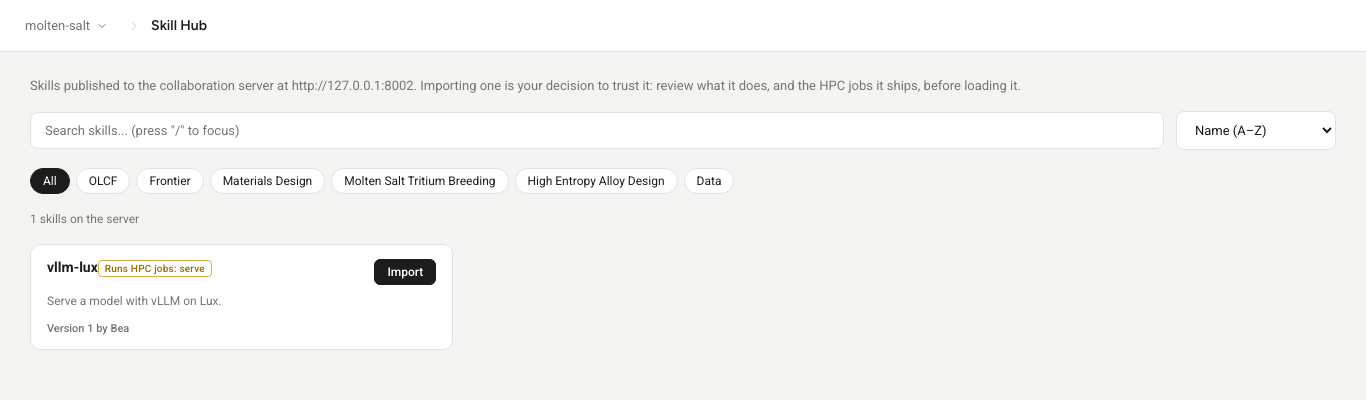
it: the Skill Hub › imports a skill into the active project
Check: the text "Serve a model with vLLM on Lux." is shown, box [47,294,222,308]
Check: the text "Runs HPC jobs: serve" is shown, box [98,260,212,277]
Step 1. Click the button "Import" → (405, 272), box [374,259,436,285]
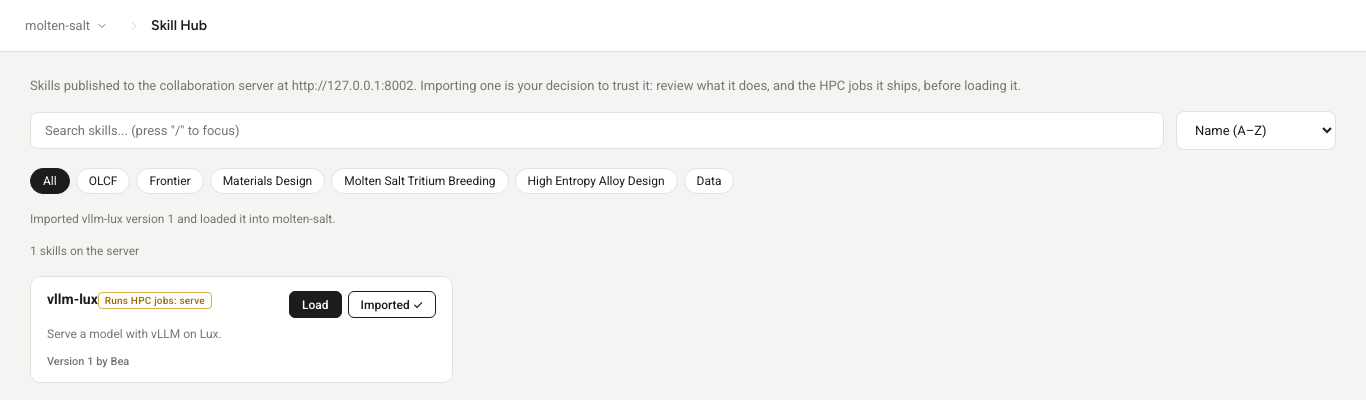
Check: the text "Imported vllm-lux version 1 and loaded it into molten-salt." is shown, box [30,212,336,226]
Check: the button "Imported ✓" is disabled, box [348,291,436,318]
